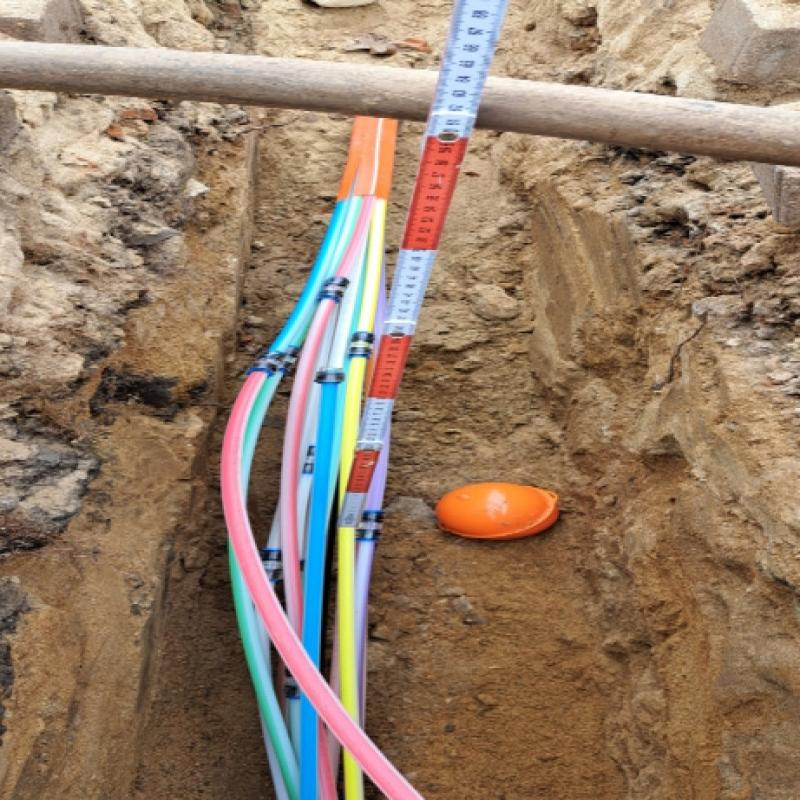Kugelmarker: (439, 483, 556, 539)
Orang-Speednetrohrchen: (248, 115, 397, 387)
